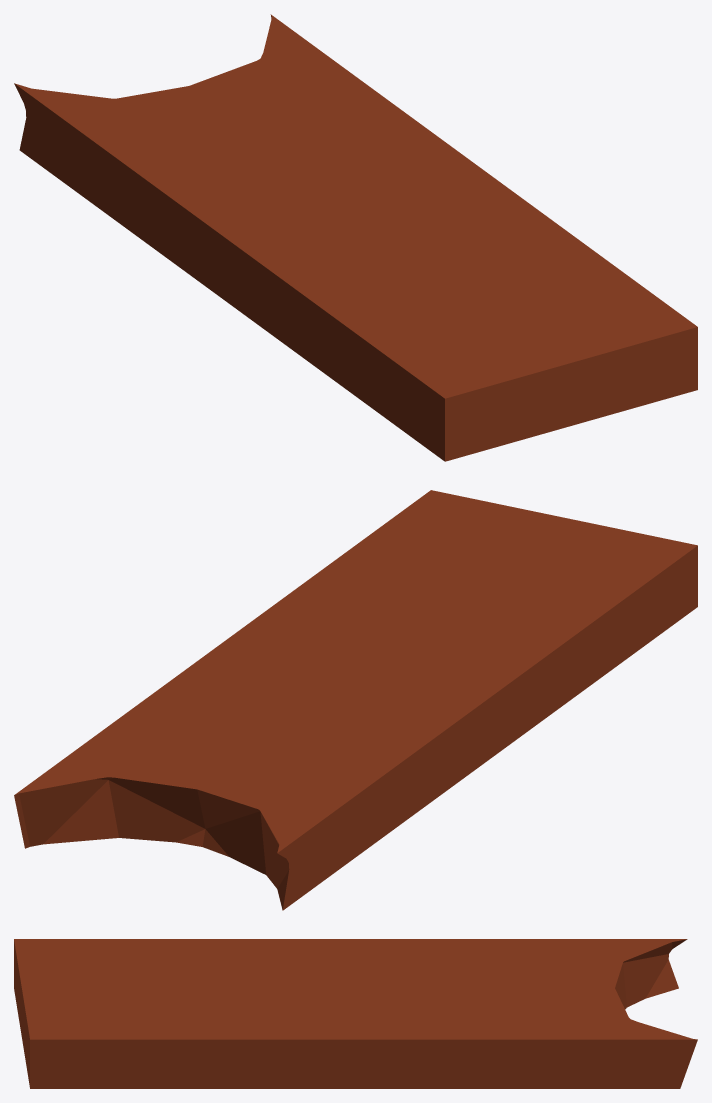
File: BrokenPlanche6.fbx
3 renders of one model, top to bottom at view 1: azimuth 30°, elevation 25°; view 2: azimuth 150°, elevation 25°; view 3: azimuth 270°, elevation 25°, orthographic. The views are drawn at different scales.
Parts seen in each view (by area): view 1: BrokenPlanche.006; view 2: BrokenPlanche.006; view 3: BrokenPlanche.006.
Boxes of the visible parts, x1,y1,x2,y2 form: BrokenPlanche.006: [14, 14, 697, 461]; BrokenPlanche.006: [14, 490, 697, 910]; BrokenPlanche.006: [14, 939, 697, 1088].
Size of the model in its own units: 169 by 38.61 by 486.
